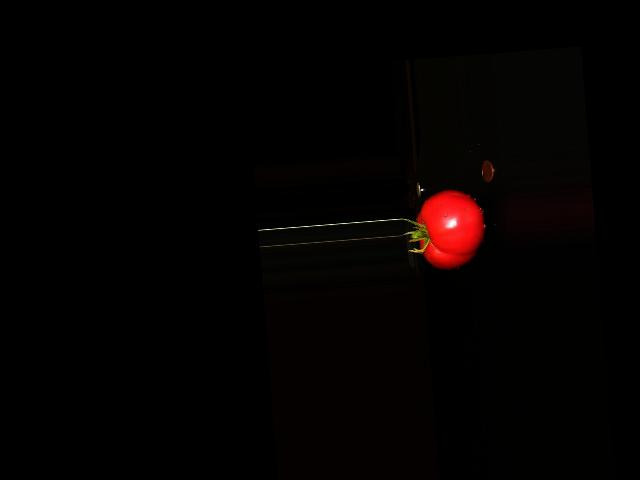tomato: (414, 187, 489, 272)
